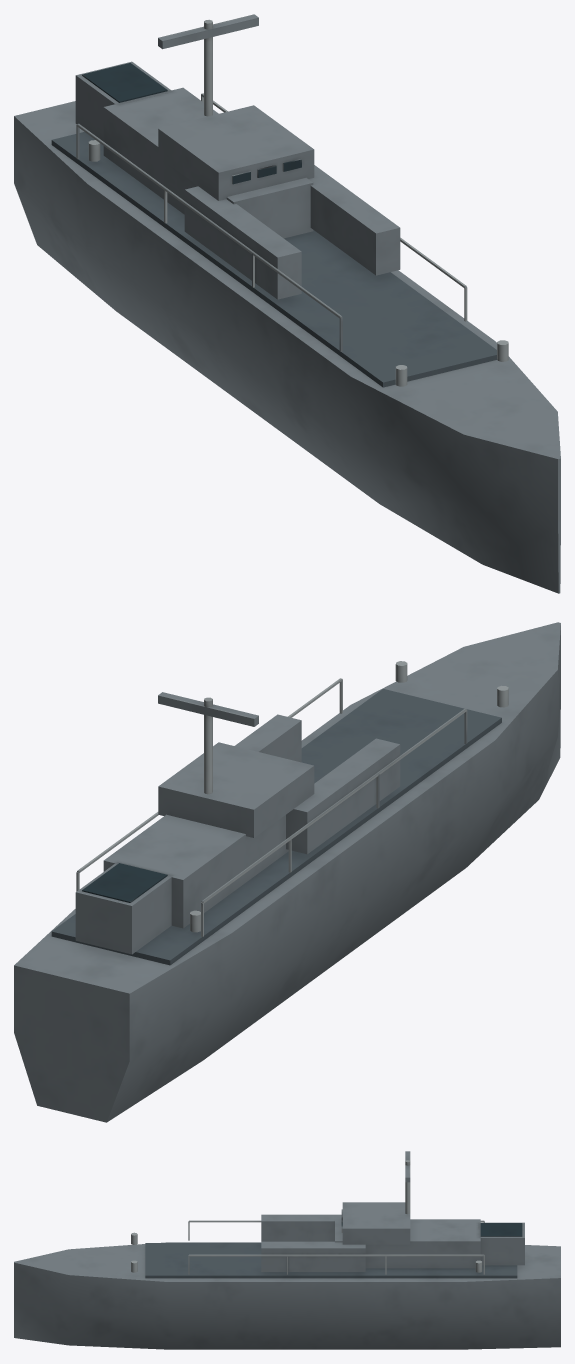
File: naval-missile-boat.fbx
The picture shows the model from 3 angles, top to bottom: view 1: azimuth 30°, elevation 25°; view 2: azimuth 150°, elevation 25°; view 3: azimuth 270°, elevation 25°; orthographic projection. The views are drawn at different scales.
Parts seen in each view (by area): view 1: naval-missile-boat; view 2: naval-missile-boat; view 3: naval-missile-boat.
Boxes of the visible parts, bbox=[...] form: naval-missile-boat: bbox=[14, 14, 560, 593]; naval-missile-boat: bbox=[14, 622, 560, 1122]; naval-missile-boat: bbox=[14, 1151, 560, 1349].
Bounding box in the file's own units: 18 × 37.4 × 105.
Materials: 1 (1 with a texture image).
